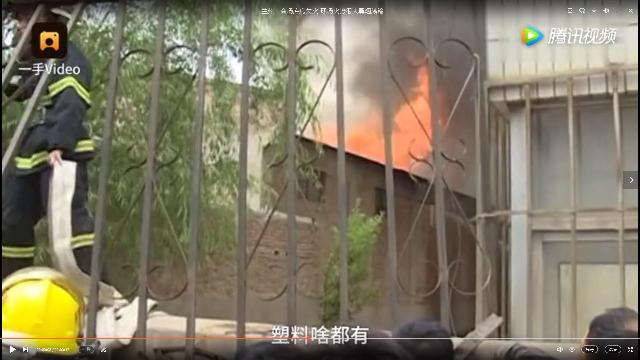smoke: (358, 44, 416, 112)
